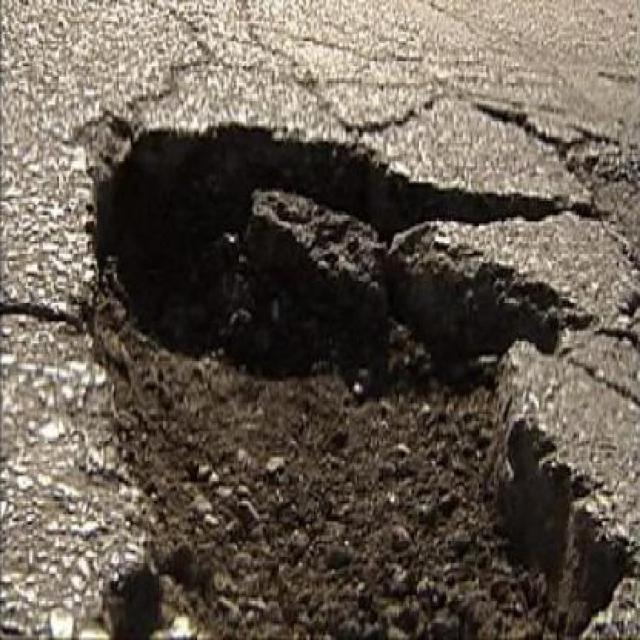pothole: (75, 105, 640, 638)
